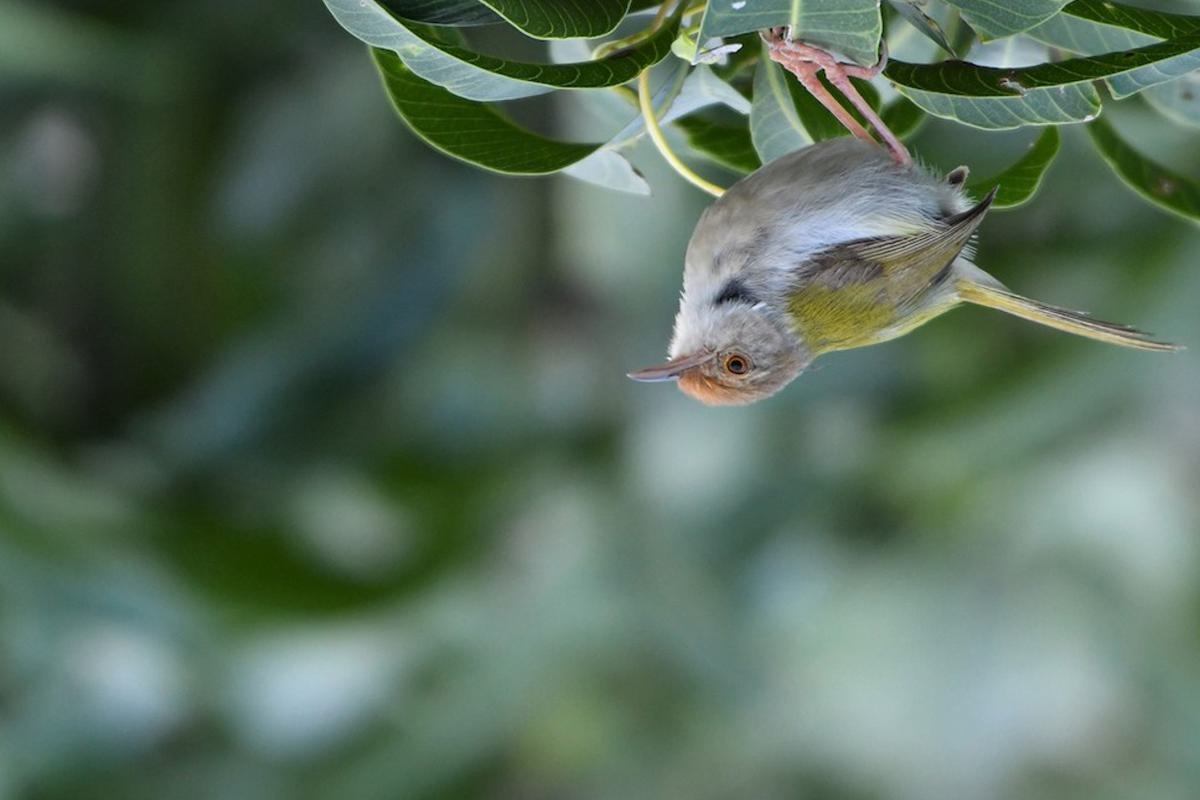tailorbird: (600, 50, 1163, 413)
